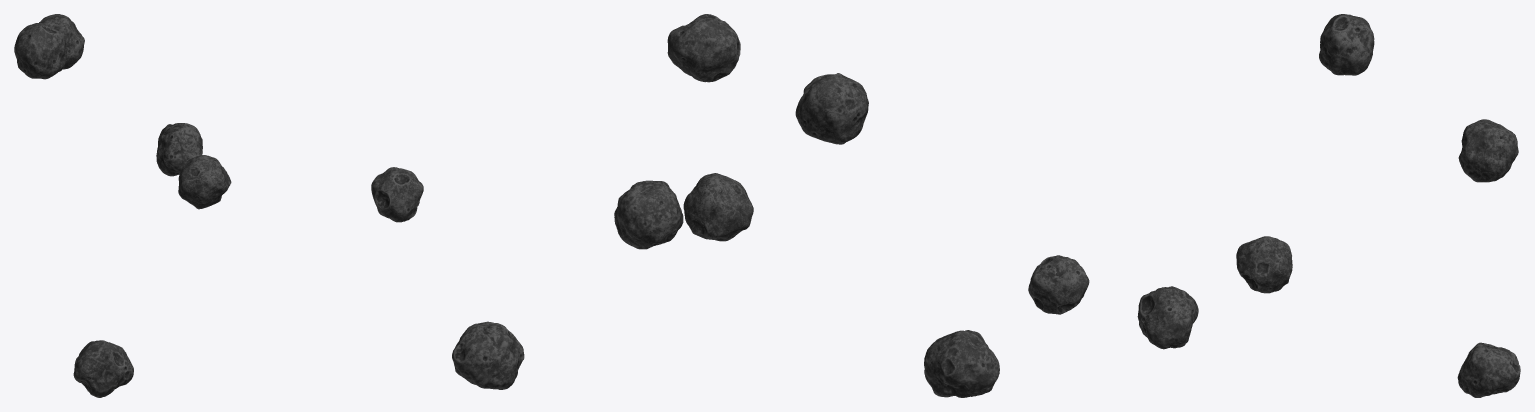
Rendered from asteroid_pack_01.glb.
3 renders of one model, left to right at view 1: azimuth 30°, elevation 25°; view 2: azimuth 150°, elevation 25°; view 3: azimuth 270°, elevation 25°, orthographic. The views are drawn at different scales.
Parts seen in each view (by area): view 1: uvlayout2; view 2: uvlayout2; view 3: uvlayout2.
Boxes of the visible parts, x1,y1,x2,y2 form: uvlayout2: (14, 14, 423, 397); uvlayout2: (452, 14, 999, 397); uvlayout2: (1028, 14, 1520, 397).
Bounding box in the file's own units: 0.0785 × 0.0763 × 0.1008.
1 material, 1 textured.
